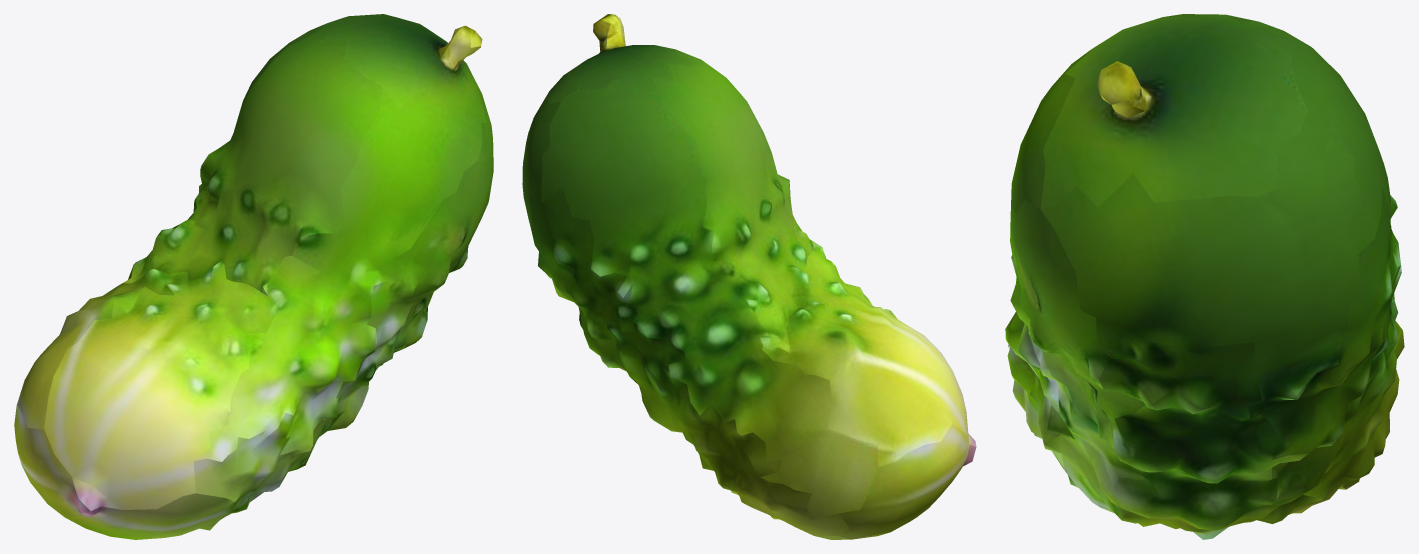
The model's file is cucumber.glb.
3 renders of one model, left to right at view 1: azimuth 30°, elevation 25°; view 2: azimuth 150°, elevation 25°; view 3: azimuth 270°, elevation 25°, orthographic. The views are drawn at different scales.
Visible parts, largest first — view 1: cucumber_z; view 2: cucumber_z; view 3: cucumber_z.
Boxes of the visible parts, x1,y1,x2,y2 form: cucumber_z: (14, 14, 493, 539); cucumber_z: (522, 14, 976, 539); cucumber_z: (1005, 14, 1404, 539).
Bounding box in the file's own units: 1 × 0.9842 × 0.5535.
Materials: 1 (1 with a texture image).
